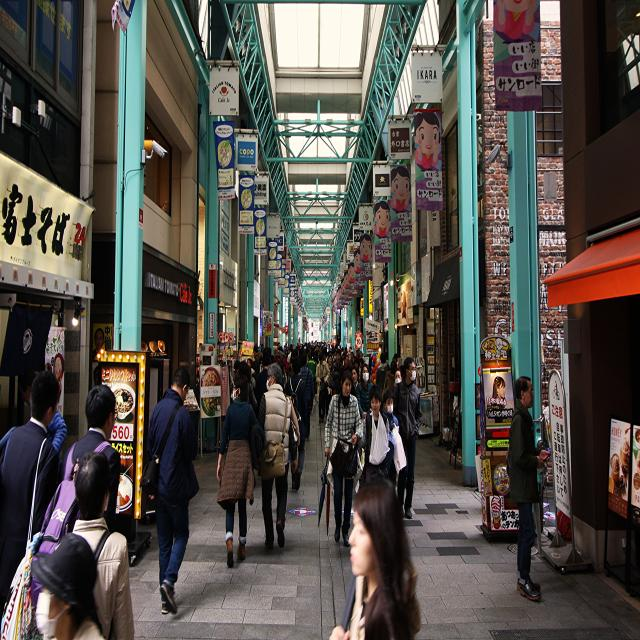body: (326, 83, 444, 312), (327, 472, 422, 640), (138, 365, 201, 617), (54, 450, 136, 640), (0, 370, 61, 625), (507, 374, 551, 602), (216, 373, 266, 569), (56, 384, 120, 534), (27, 528, 109, 640), (257, 361, 300, 553), (323, 368, 362, 550), (16, 366, 68, 475), (392, 356, 423, 521), (351, 384, 390, 495), (283, 357, 309, 492), (258, 341, 365, 372), (493, 0, 539, 48), (382, 389, 399, 489), (391, 368, 408, 464), (298, 354, 315, 442), (355, 363, 374, 420), (316, 353, 330, 424), (488, 374, 509, 420), (254, 354, 272, 406), (245, 343, 258, 409), (328, 349, 344, 395), (384, 353, 401, 391), (306, 351, 318, 401), (376, 352, 390, 393), (339, 355, 352, 393), (326, 354, 334, 406), (220, 359, 245, 373), (350, 368, 360, 397), (282, 372, 292, 392), (367, 352, 373, 362)
